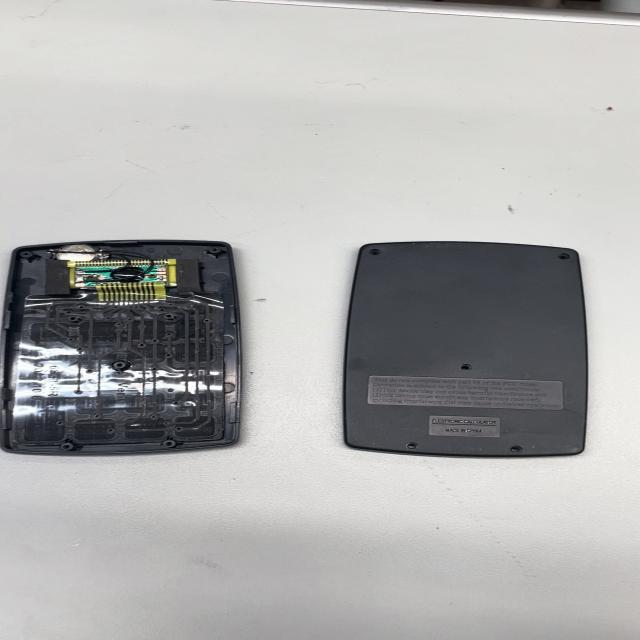back_cover: (326, 227, 612, 460)
front_panel: (0, 235, 243, 457)
